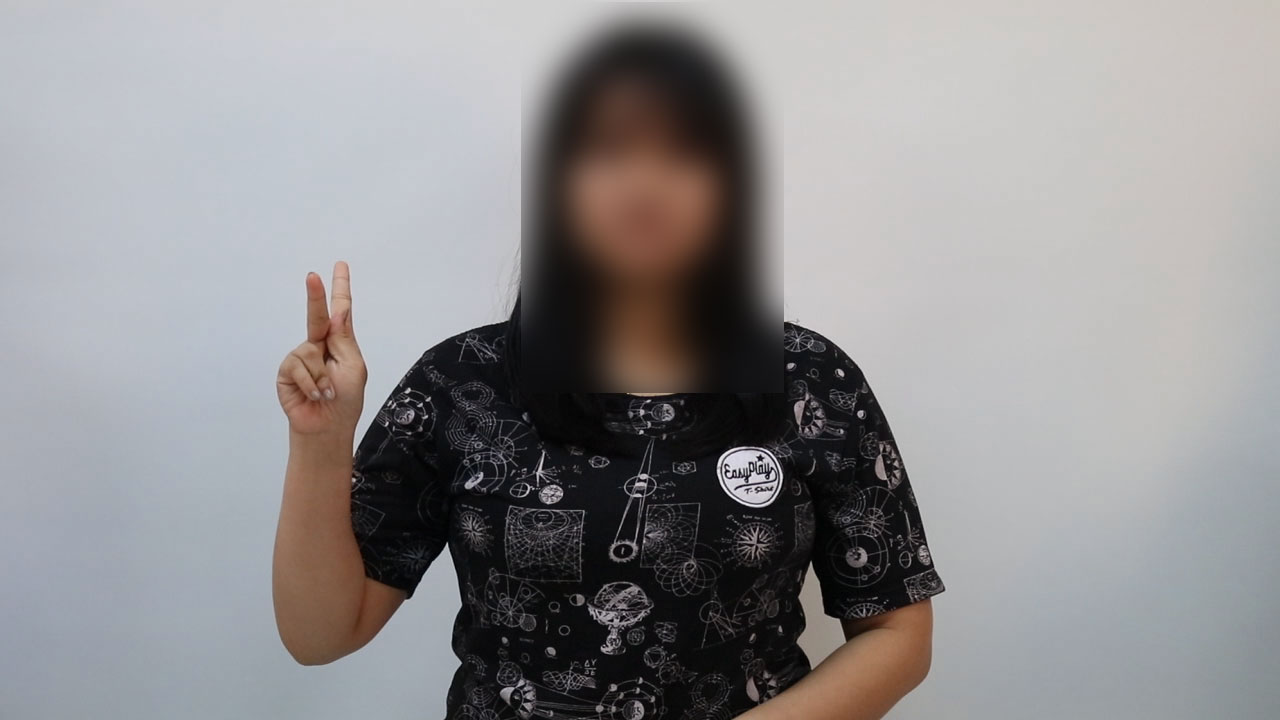ko: (188, 247, 436, 469)
